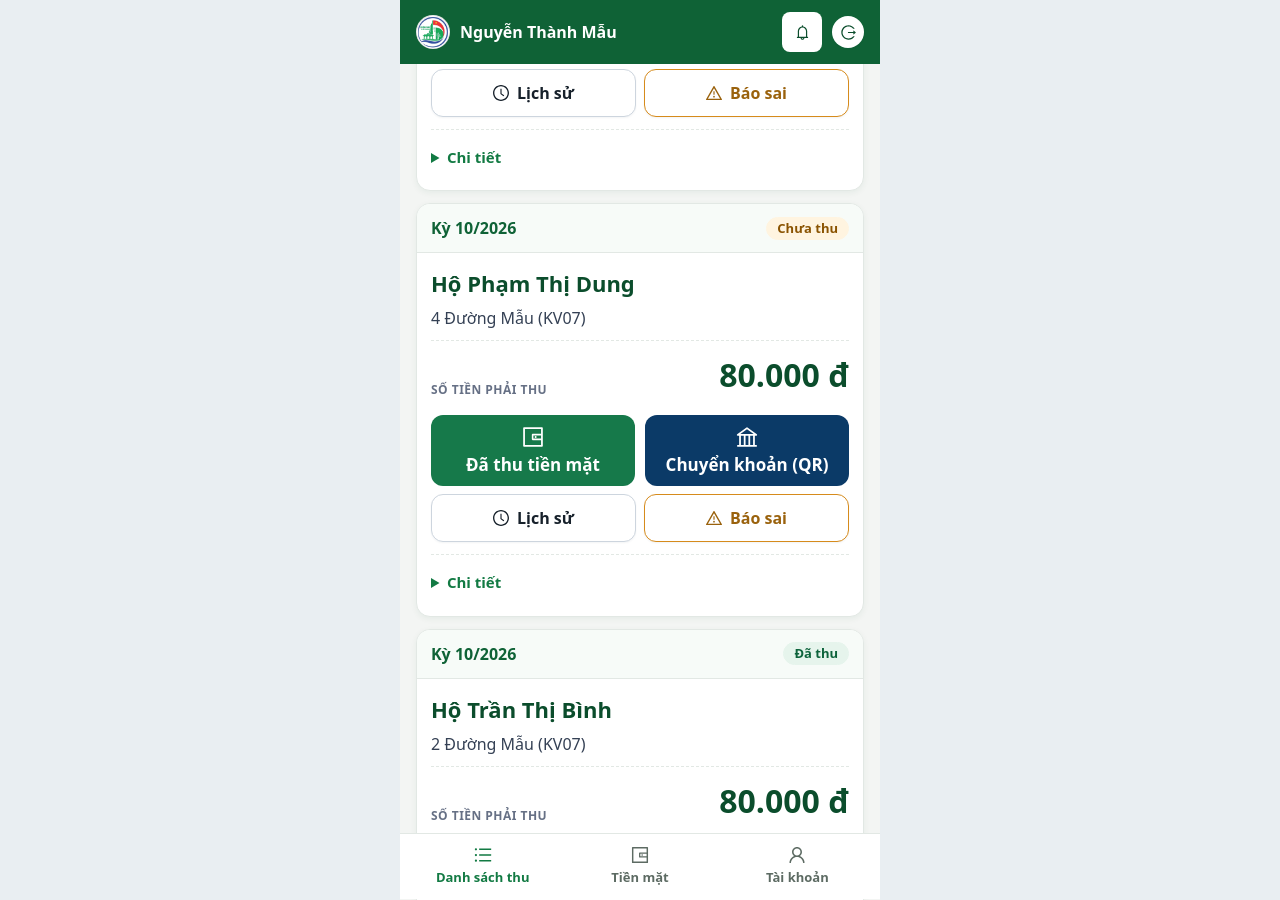
Test: Người đi thu: danh sách thu › hộ thanh toán xong thì màn QR chuyển sang "Giao dịch thành công", người đi thu chỉ bấm Hoàn tất
(page scrolled)
Click the button "Chuyển khoản (QR)" at (747, 451), box [645, 415, 849, 486]
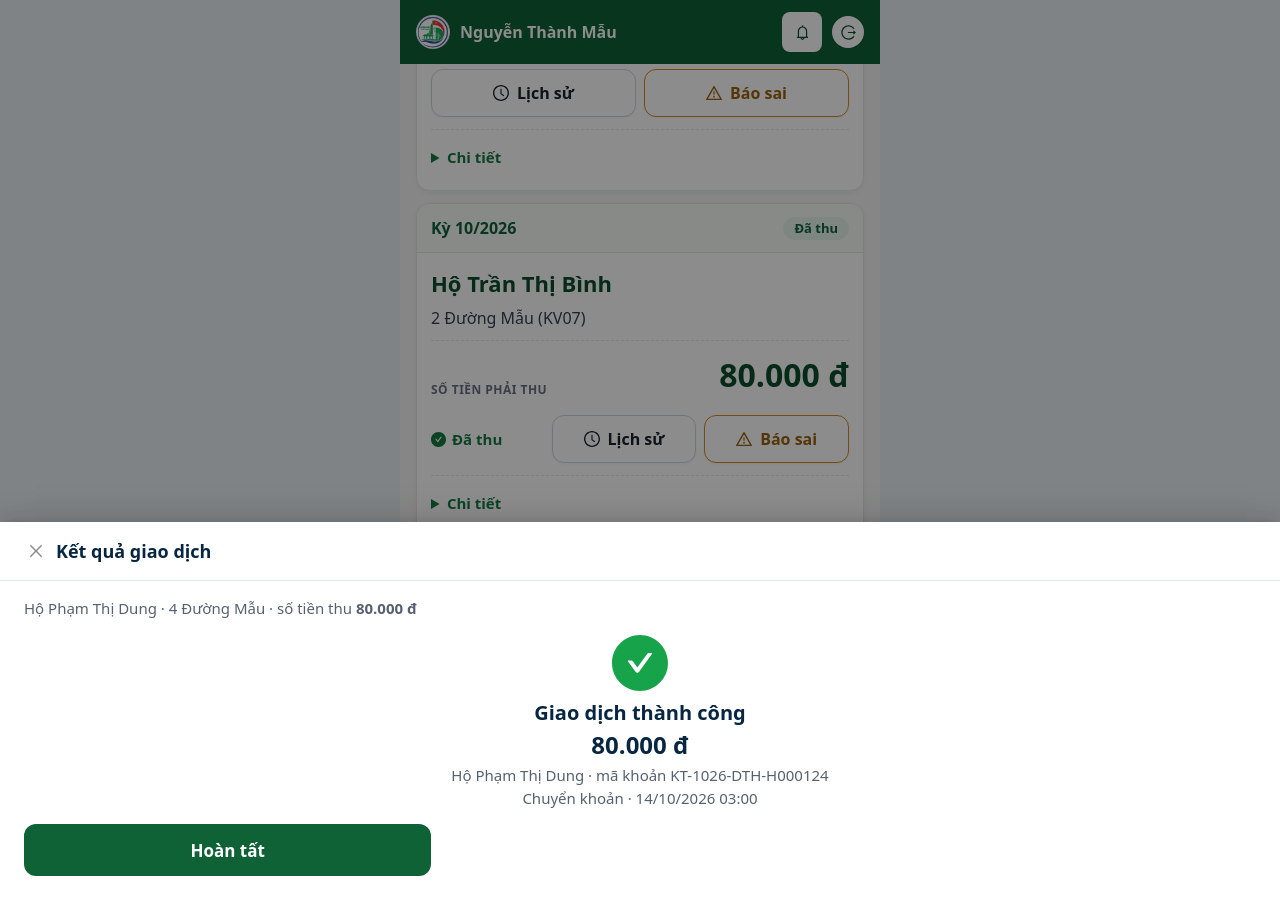
Expected: the heading "Giao dịch thành công" is shown, [534, 699, 746, 726]
Click the button "Hoàn tất" at (228, 850), box [24, 824, 431, 876]
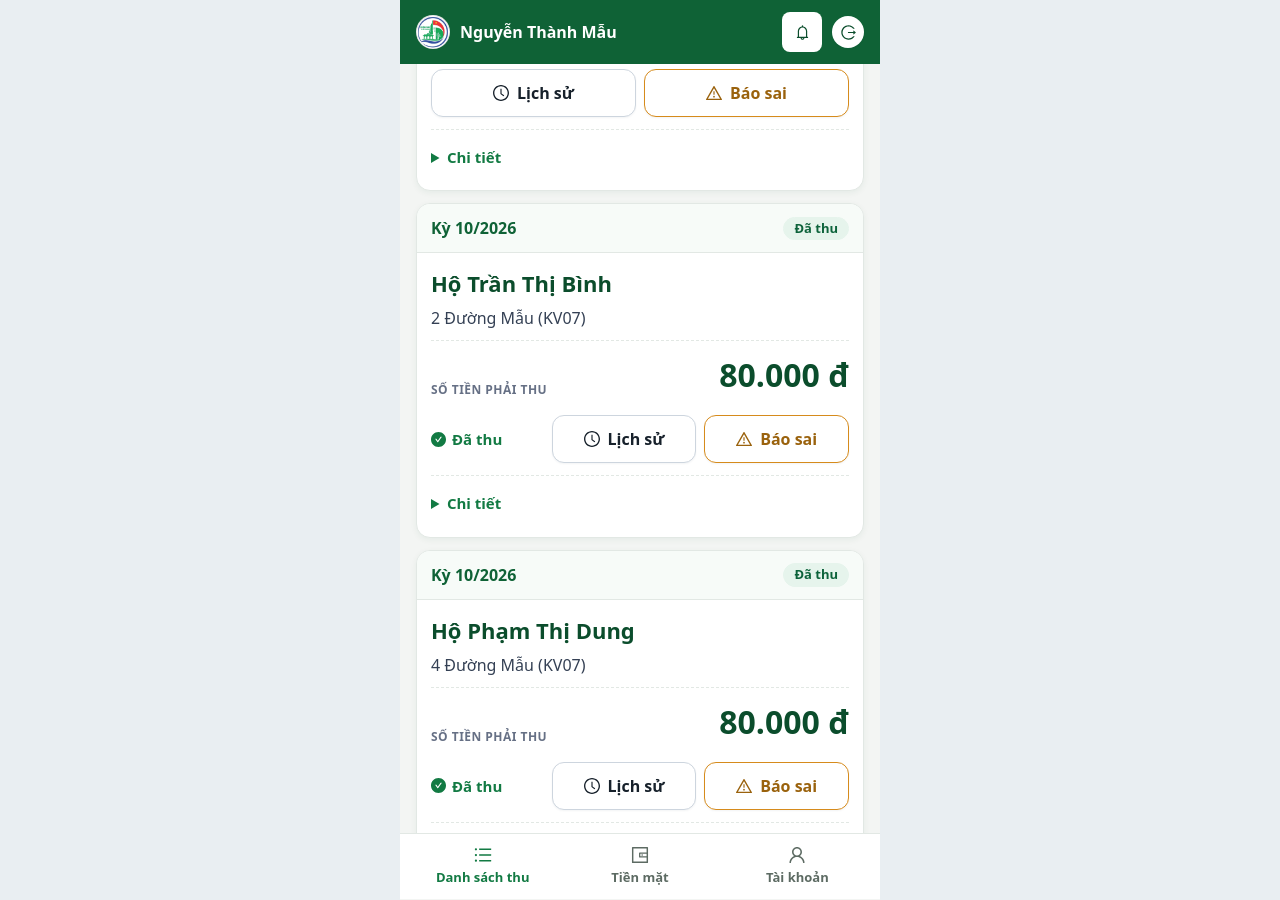
Expected: the dialog is gone
